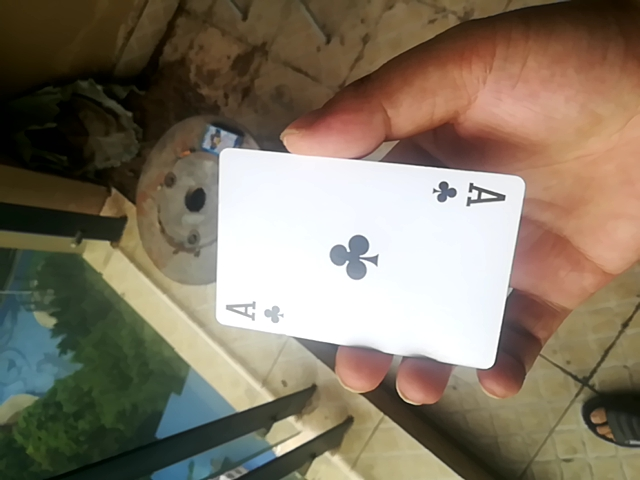mh a: (212, 141, 524, 373)
